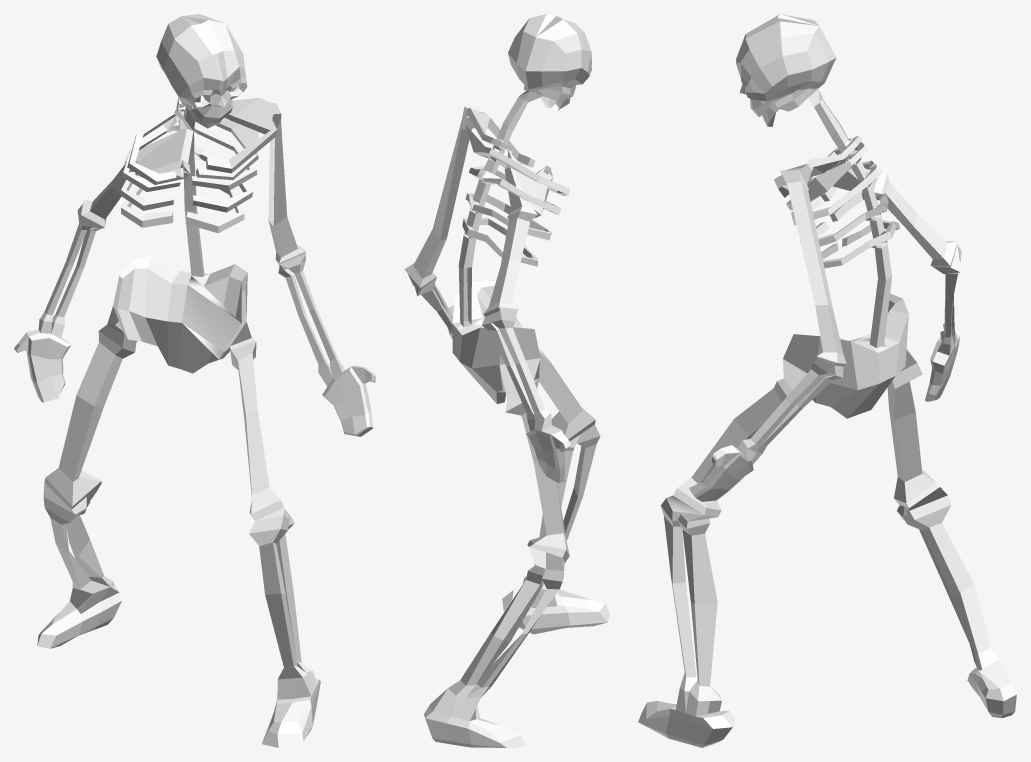
Rendered from SkeletonIdle(112).obj.
3 views of the same model, side by side, from view 1: azimuth 30°, elevation 25°; view 2: azimuth 150°, elevation 25°; view 3: azimuth 270°, elevation 25° (orthographic). The views are drawn at different scales.
Parts seen in each view (by area): view 1: Object002; view 2: Object002; view 3: Object002.
Part boxes in pixels (bbox=[...]): Object002: bbox=[14, 14, 375, 747]; Object002: bbox=[404, 14, 609, 747]; Object002: bbox=[638, 14, 1016, 747].
Bounding box in the file's own units: 421 × 1123 × 555.
